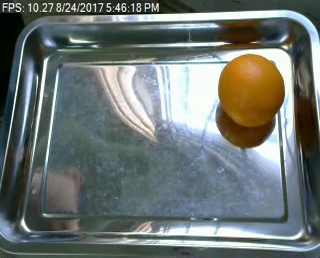Orange: (217, 52, 287, 127)
